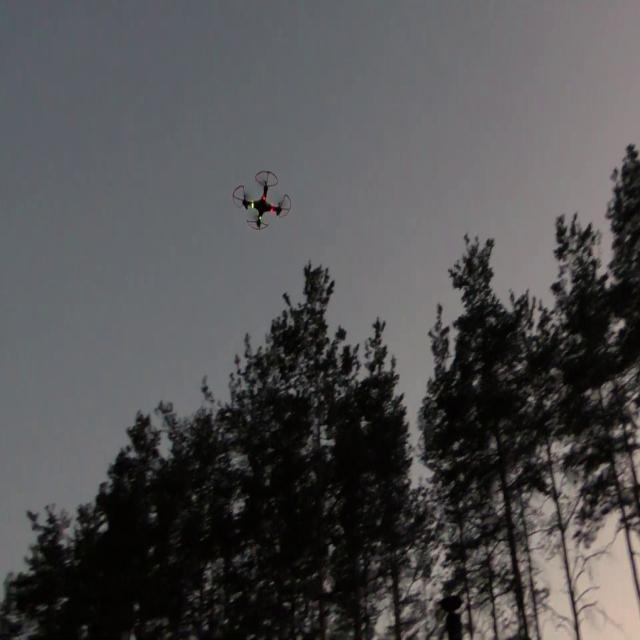Drons: (227, 167, 297, 236)
